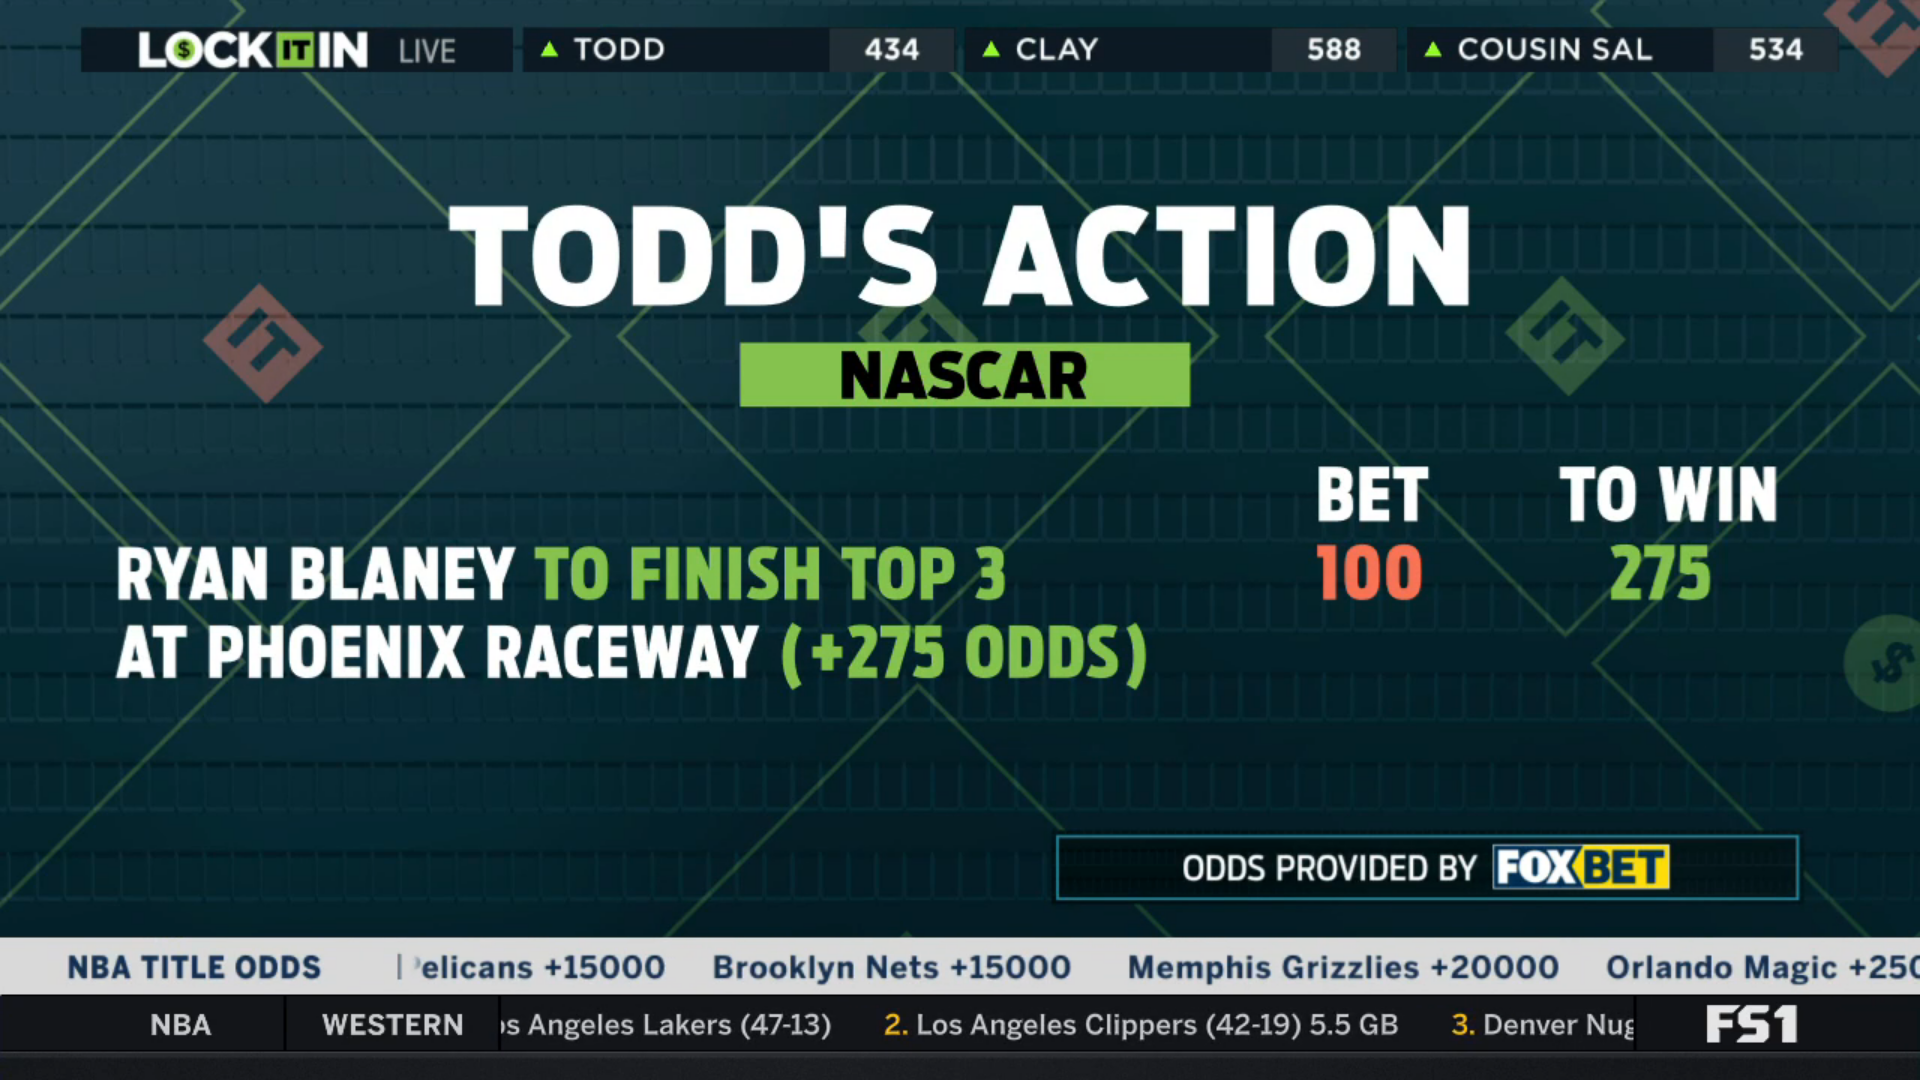Bet: (98, 531, 1163, 703)
Bet Amount: (1302, 447, 1444, 618)
Subtitle: (728, 328, 1204, 415)
Title: (433, 189, 1485, 320)
To Win: (1547, 451, 1791, 616)
Top Bar: (67, 15, 1851, 80)
